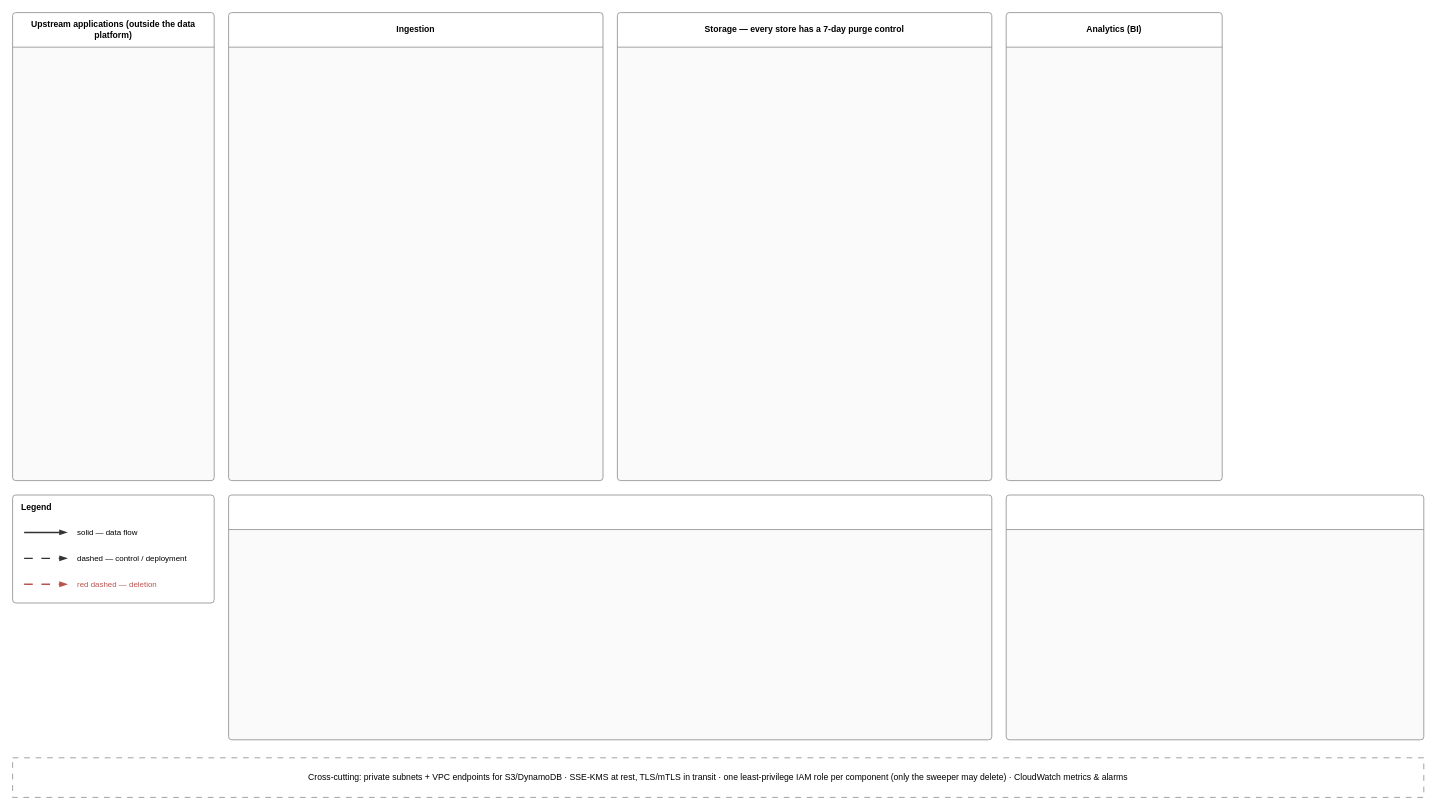
Image size: 1436x810. Some labels were removed from this diagram. The centre of each missing label's shape, as x and y in pixels:
Compliance & operations: the point at 1214,617
Processing (pre-written image code, containerised): the point at 610,617
